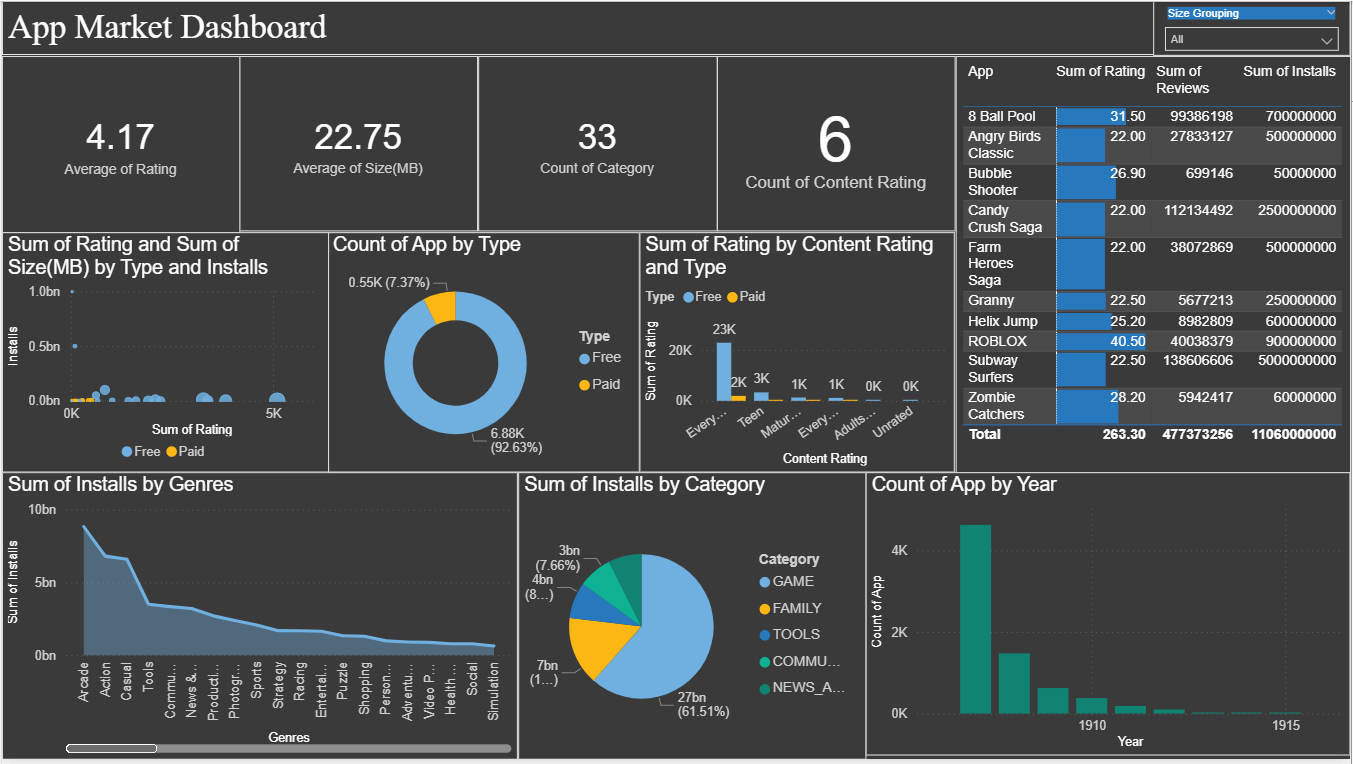

This screenshot's page, from the dashboard's own definition file:
{"tool":"powerbi","page":{"name":"Overview","canvas":[1280,720],"ordinal":1},"visuals":[{"type":"textbox","box":[0,0,1280.3,51.4],"z":0},{"type":"card","fields":{"Values":["Avg(googleplaystorecleaned.Rating)"]},"box":[0,51.9,226,167.7],"z":1000},{"type":"card","fields":{"Values":["Count(googleplaystorecleaned.Category)"]},"box":[452.4,51.9,226.8,166.5],"z":2000},{"type":"card","fields":{"Values":["Avg(googleplaystorecleaned.Size(MB))"]},"box":[225.6,51.9,226,166.5],"z":3000},{"type":"donutChart","fields":{"Category":["googleplaystorecleaned.Type"],"Y":["CountNonNull(googleplaystorecleaned.App)"]},"box":[308.8,219.6,296.8,228],"z":4000},{"type":"clusteredColumnChart","fields":{"Category":["googleplaystorecleaned.Content Rating"],"Y":["Sum(googleplaystorecleaned.Rating)"],"Series":["googleplaystorecleaned.Type"]},"box":[605.6,219.6,299.2,228],"z":5000},{"type":"tableEx","fields":{"Values":["googleplaystorecleaned.App","Sum(googleplaystorecleaned.Rating)","Sum(googleplaystorecleaned.Reviews)","Sum(googleplaystorecleaned.Installs)"]},"box":[904.8,51.9,375.2,395.7],"z":6000},{"type":"areaChart","fields":{"Category":["googleplaystorecleaned.Genres"],"Y":["Sum(googleplaystorecleaned.Installs)"]},"box":[0,447.6,489.8,272.7],"z":7000},{"type":"scatterChart","fields":{"X":["Sum(googleplaystorecleaned.Rating)"],"Y":["googleplaystorecleaned.Installs"],"Size":["Sum(googleplaystorecleaned.Size(MB))"],"Series":["googleplaystorecleaned.Type"]},"box":[0,219.6,310.1,228],"z":8000},{"type":"pieChart","fields":{"Category":["googleplaystorecleaned.Category"],"Y":["Sum(googleplaystorecleaned.Installs)"]},"box":[489.8,447.6,330.6,272.7],"z":9000},{"type":"columnChart","fields":{"Category":["googleplaystorecleaned.DaysSinceLastUpdate.Variation.Date Hierarchy.Year","googleplaystorecleaned.DaysSinceLastUpdate.Variation.Date Hierarchy.Quarter","googleplaystorecleaned.DaysSinceLastUpdate.Variation.Date Hierarchy.Month","googleplaystorecleaned.DaysSinceLastUpdate.Variation.Date Hierarchy.Day"],"Y":["CountNonNull(googleplaystorecleaned.App)"]},"box":[820.4,447.6,459.7,269],"z":10000},{"type":"card","fields":{"Values":["Count(googleplaystorecleaned.Content Rating)"]},"box":[679.2,51.9,226,166.5],"z":10001},{"type":"slicer","fields":{"Values":["googleplaystorecleaned.Size Grouping"]},"box":[979.6,0,300.4,51.9],"z":10002}]}

Visuals, with their boxes in screenshot pixels (x1, y1, x2, y2), scaled from the page's 1280x720 canvas onto the 1353x764 screenshot:
textbox: 0,0,1352,55
card - Avg(googleplaystorecleaned.Rating): 0,55,239,233
card - Count(googleplaystorecleaned.Category): 478,55,718,232
card - Avg(googleplaystorecleaned.Size(MB)): 238,55,477,232
donutChart - googleplaystorecleaned.Type x CountNonNull(googleplaystorecleaned.App): 326,233,640,475
clusteredColumnChart - googleplaystorecleaned.Content Rating x Sum(googleplaystorecleaned.Rating): 640,233,956,475
tableEx - googleplaystorecleaned.App x Sum(googleplaystorecleaned.Rating): 956,55,1352,475
areaChart - googleplaystorecleaned.Genres x Sum(googleplaystorecleaned.Installs): 0,475,518,763
scatterChart - Sum(googleplaystorecleaned.Rating) x googleplaystorecleaned.Installs: 0,233,328,475
pieChart - googleplaystorecleaned.Category x Sum(googleplaystorecleaned.Installs): 518,475,867,763
columnChart - googleplaystorecleaned.DaysSinceLastUpdate.Variation.Date Hierarchy.Year x googleplaystorecleaned.DaysSinceLastUpdate.Variation.Date Hierarchy.Quarter: 867,475,1352,760
card - Count(googleplaystorecleaned.Content Rating): 718,55,957,232
slicer - googleplaystorecleaned.Size Grouping: 1035,0,1352,55
